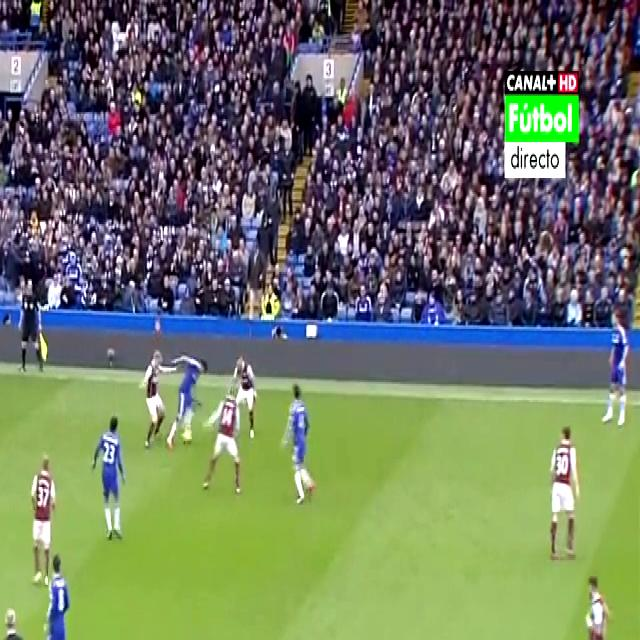ball: (174, 411, 207, 474)
referee: (13, 261, 49, 387), (0, 594, 32, 640)
soccer-player: (546, 413, 582, 567), (279, 371, 317, 506), (92, 415, 130, 537), (571, 565, 628, 640), (598, 302, 629, 429), (29, 448, 55, 587), (209, 387, 241, 496), (170, 330, 197, 456), (141, 349, 169, 446), (44, 553, 75, 640), (228, 354, 258, 441)
